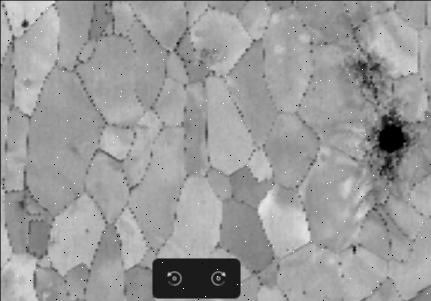good_void: (364, 109, 416, 183), (352, 55, 381, 103), (13, 192, 28, 211), (18, 76, 34, 89), (17, 16, 31, 30), (349, 244, 359, 257), (81, 225, 91, 235), (334, 258, 344, 268), (299, 288, 309, 297), (284, 246, 290, 253)
